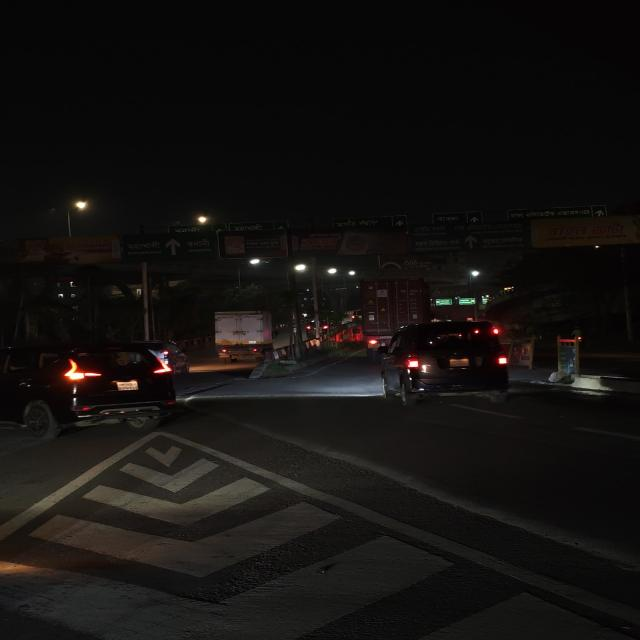car: (1, 342, 180, 441), (378, 320, 516, 409)
truck: (211, 308, 277, 364)
